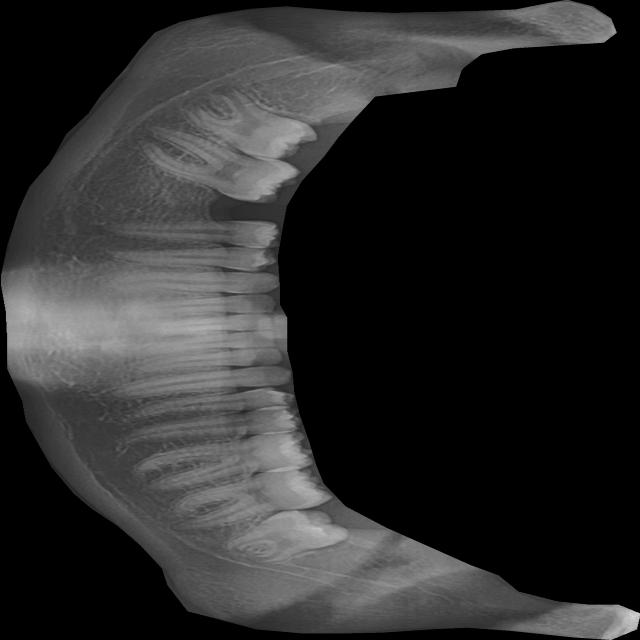mandibula: (0, 0, 640, 640)
